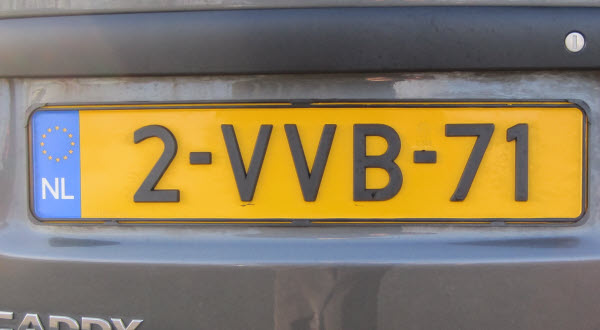license_plate: (28, 101, 587, 223)
